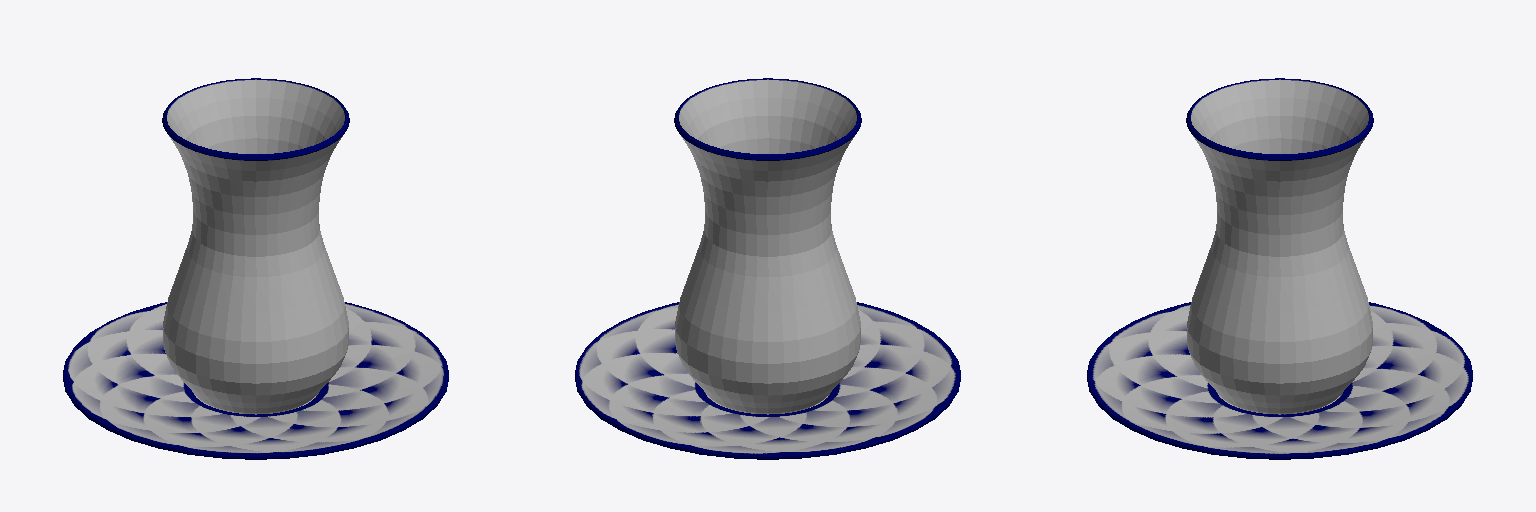
3 views of the same model, side by side, from view 1: azimuth 30°, elevation 25°; view 2: azimuth 150°, elevation 25°; view 3: azimuth 270°, elevation 25° (orthographic).
Visible parts, largest first — view 1: Cup; view 2: Cup; view 3: Cup.
Part boxes in pixels (left/top/right/bottom): Cup: left=63, top=78, right=448, bottom=459; Cup: left=575, top=78, right=960, bottom=459; Cup: left=1087, top=78, right=1472, bottom=459.
Size of the model in its own units: 3.94 by 3.13 by 3.93.
1 materials, 1 textured.